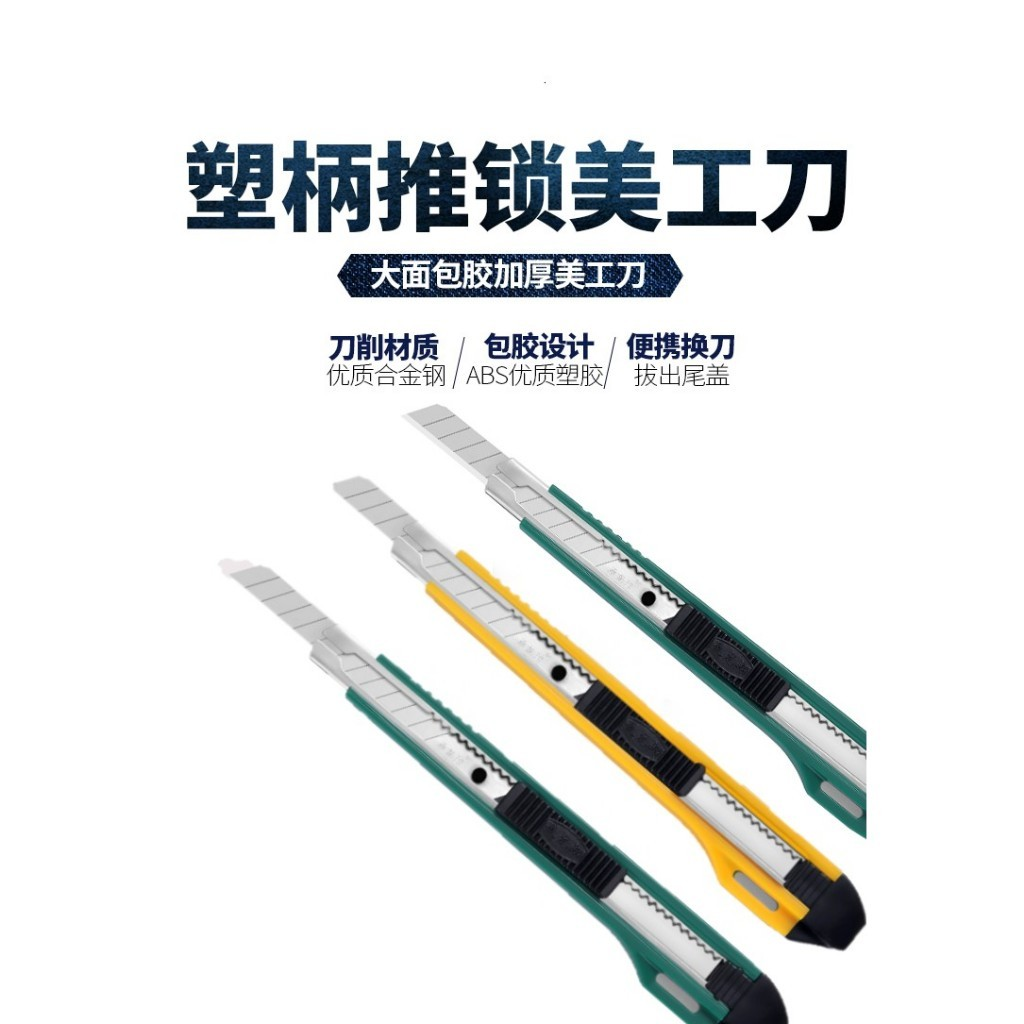cutter: (324, 475, 866, 956), (230, 563, 789, 1021), (404, 402, 866, 842)
